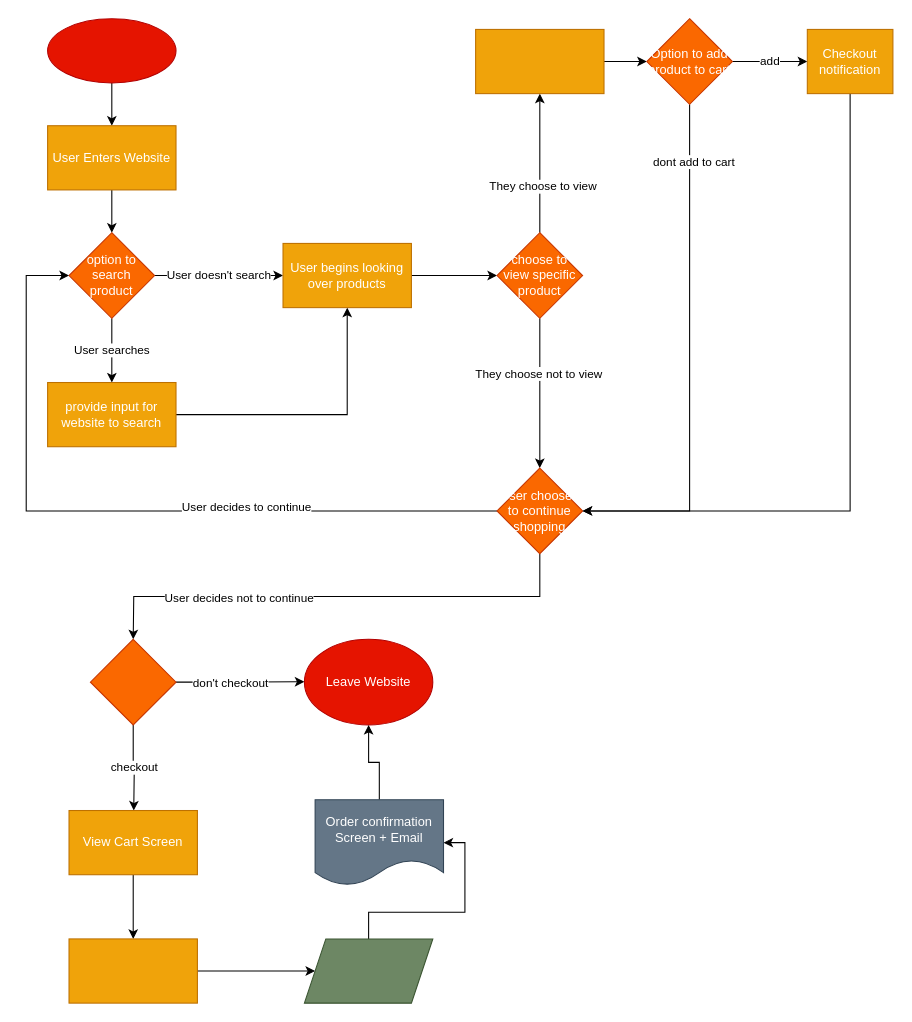
Some shapes in this 912 by 1022 pixel diagram are drawn without their labels. Each missing label, with the centre of its shape:
"decide if checkout" goes at (132,681).
"Open products webpage" goes at (539,61).
"Start" goes at (111,50).
"User enters payment info" goes at (368,970).
"View Payment Screen" goes at (132,970).
